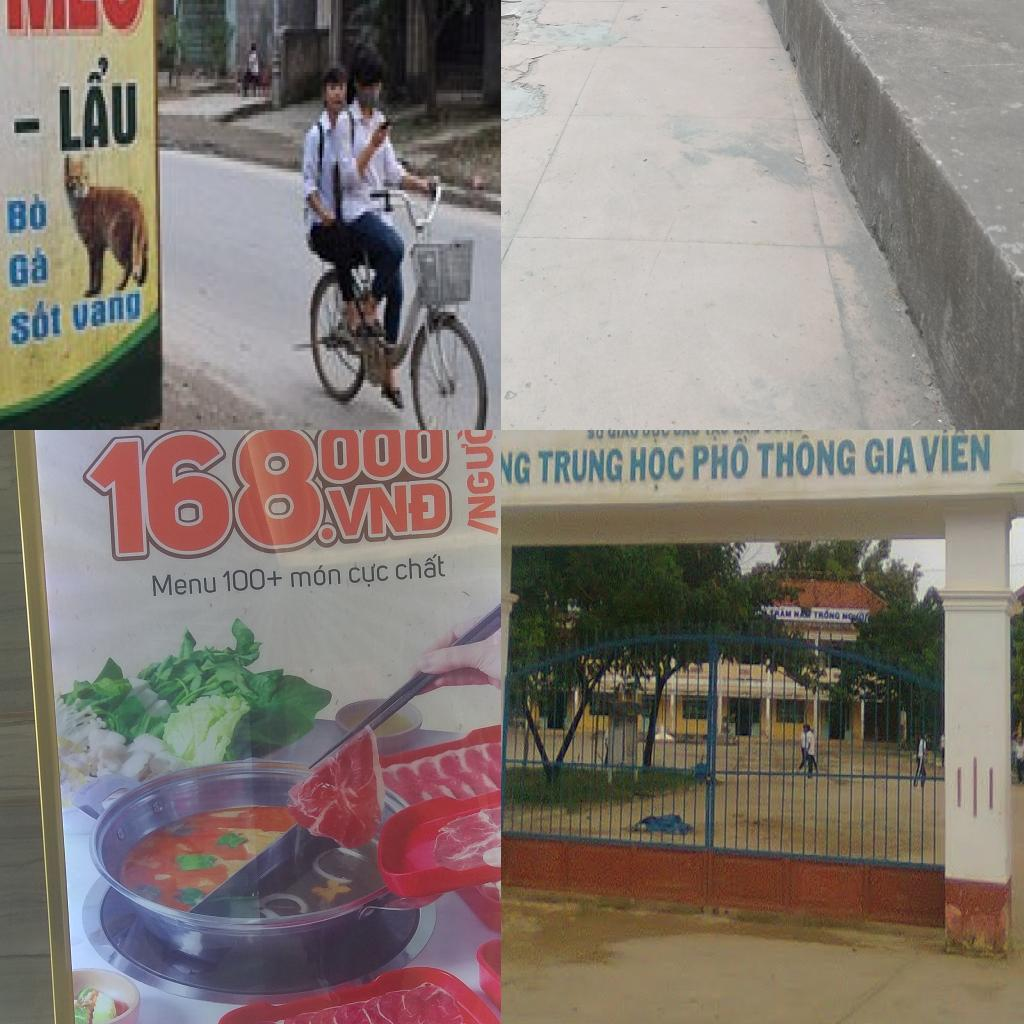text: (78, 430, 452, 566), (48, 43, 142, 158), (0, 0, 144, 39), (755, 432, 859, 482), (455, 430, 501, 541), (66, 287, 148, 337), (3, 290, 69, 352), (536, 446, 626, 484), (691, 435, 752, 484), (0, 179, 50, 236), (628, 444, 687, 492), (2, 240, 50, 294), (864, 434, 920, 478), (148, 568, 219, 600), (220, 563, 284, 595), (287, 562, 344, 592), (501, 440, 533, 489), (347, 560, 390, 591), (642, 430, 671, 445), (606, 430, 640, 441), (703, 430, 730, 441), (673, 430, 701, 439), (586, 430, 607, 441), (763, 430, 804, 435), (732, 430, 761, 436)
